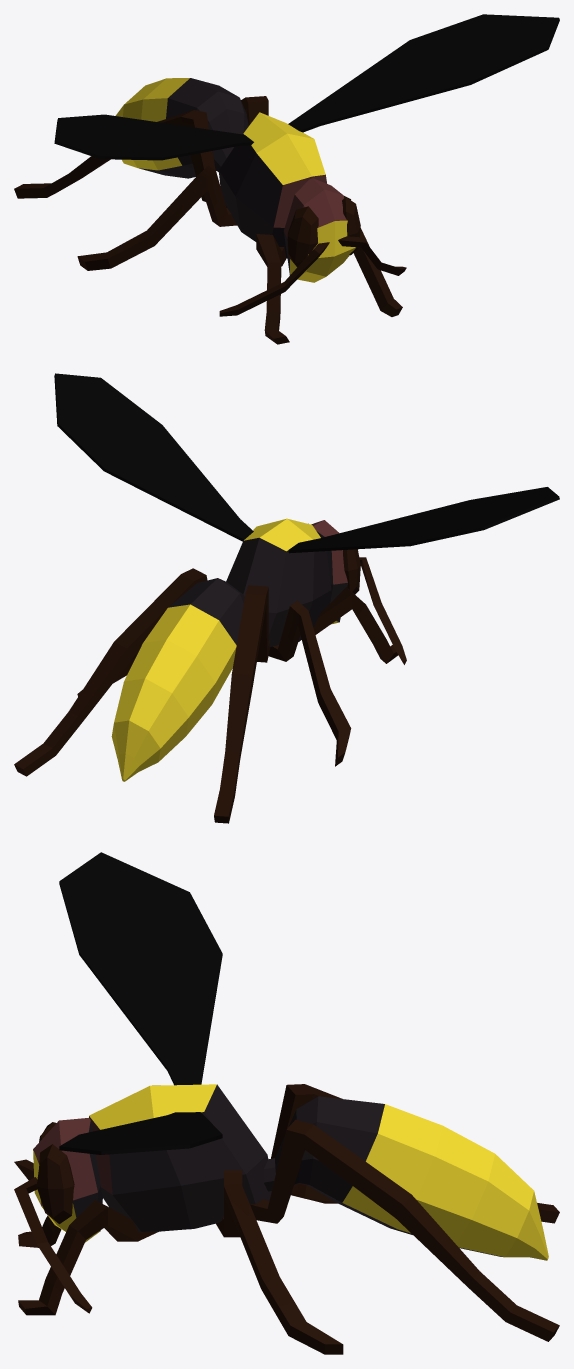
The picture shows the model from 3 angles, top to bottom: view 1: azimuth 30°, elevation 25°; view 2: azimuth 150°, elevation 25°; view 3: azimuth 270°, elevation 25°; orthographic projection. The views are drawn at different scales.
Visible parts, largest first — view 1: Geo_Hornet; view 2: Geo_Hornet; view 3: Geo_Hornet.
Part boxes in pixels (x1,y1,x2,y2): Geo_Hornet: (14,14,559,344); Geo_Hornet: (14,373,559,823); Geo_Hornet: (14,852,559,1354).
Size of the model in its own units: 135 by 58.42 by 104.
2 materials, 1 textured.
